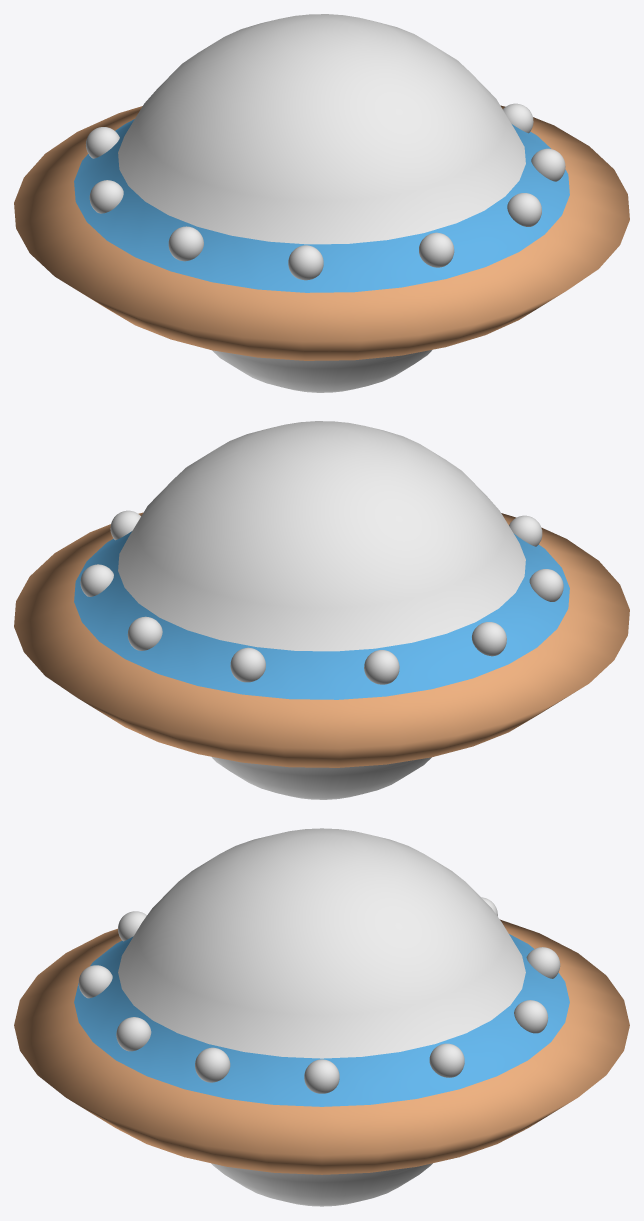
File: ufoWithMaterials.glb
3 renders of one model, top to bottom at view 1: azimuth 30°, elevation 25°; view 2: azimuth 150°, elevation 25°; view 3: azimuth 270°, elevation 25°, orthographic.
Parts seen in each view (by area): view 1: Sphere; view 2: Sphere; view 3: Sphere.
Part boxes in pixels (x1,y1,x2,y2): Sphere: (14,14,629,392); Sphere: (14,421,629,799); Sphere: (14,828,629,1206).
Size of the model in its own units: 5.2 by 3.19 by 5.2.
